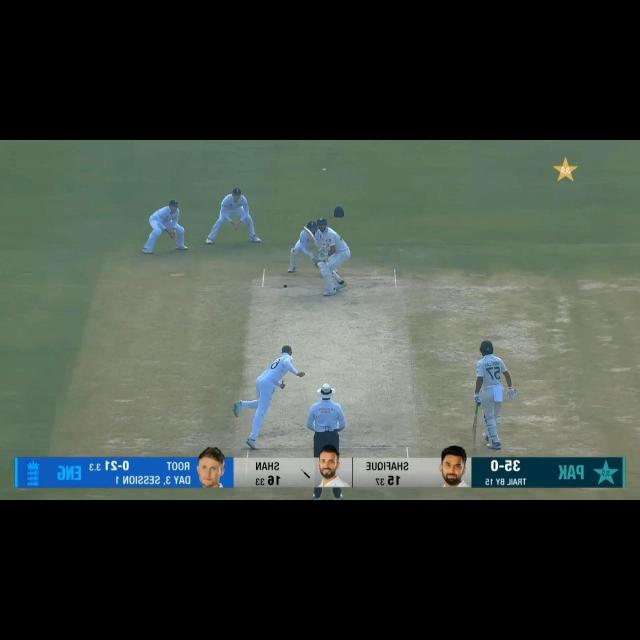bat: (302, 225, 321, 249), (470, 418, 478, 451)
toe: (470, 442, 479, 451), (302, 226, 309, 233)
